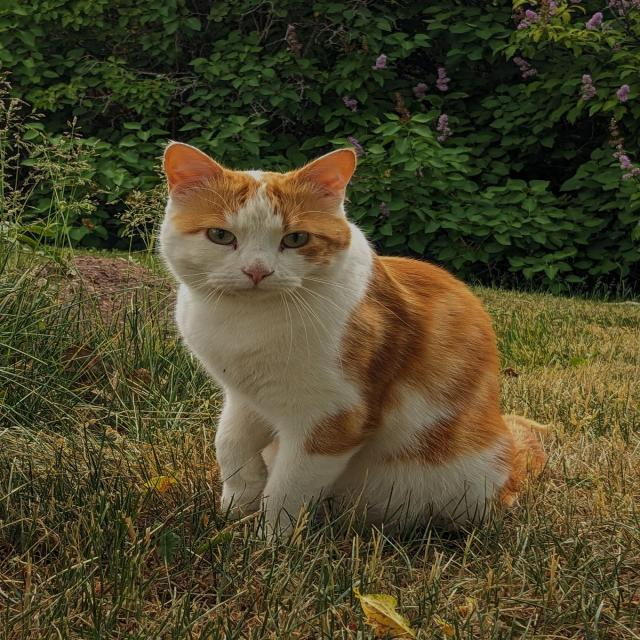sarman: (159, 142, 546, 537)
